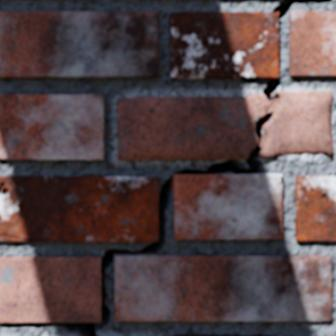brick: (115, 256, 333, 322), (0, 12, 159, 78), (0, 176, 159, 242), (174, 175, 283, 240), (170, 12, 277, 78), (0, 95, 104, 160), (0, 257, 99, 322), (289, 12, 335, 77), (295, 176, 335, 241), (0, 237, 22, 241), (176, 334, 219, 335)
broken_brick: (116, 94, 269, 160), (261, 91, 335, 158)
crack: (0, 0, 333, 335), (0, 233, 33, 243), (149, 26, 158, 37), (324, 271, 333, 282), (278, 176, 284, 185)
